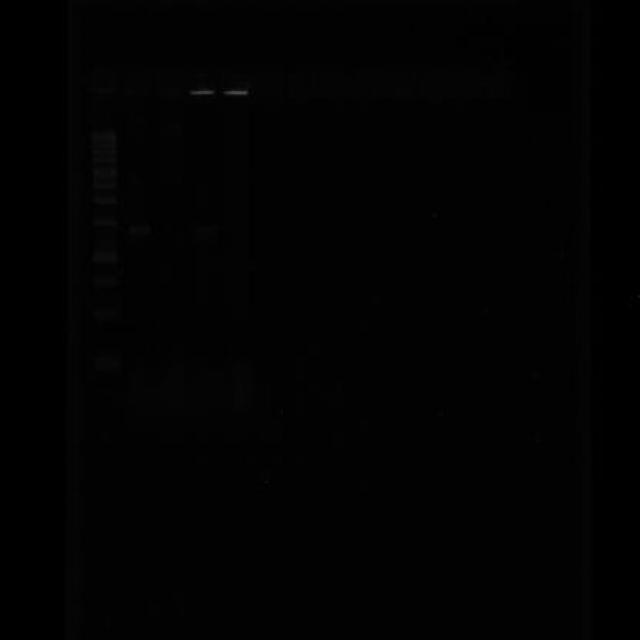B: (124, 220, 152, 238)
L: (84, 59, 521, 102)
M: (85, 125, 124, 382)
P: (91, 350, 120, 373), (90, 247, 118, 264), (90, 164, 118, 178), (92, 276, 120, 290), (91, 308, 118, 322), (91, 216, 117, 230), (91, 194, 117, 206), (92, 178, 116, 190), (92, 156, 116, 162), (92, 148, 116, 154), (90, 144, 116, 148)
Pc: (450, 66, 486, 100), (86, 63, 119, 97), (284, 68, 318, 100), (153, 66, 184, 100), (319, 68, 350, 101), (416, 68, 449, 99), (122, 64, 152, 98), (382, 70, 418, 98), (219, 68, 252, 98), (187, 68, 218, 99), (252, 69, 283, 100), (486, 68, 516, 100), (351, 70, 382, 99)
